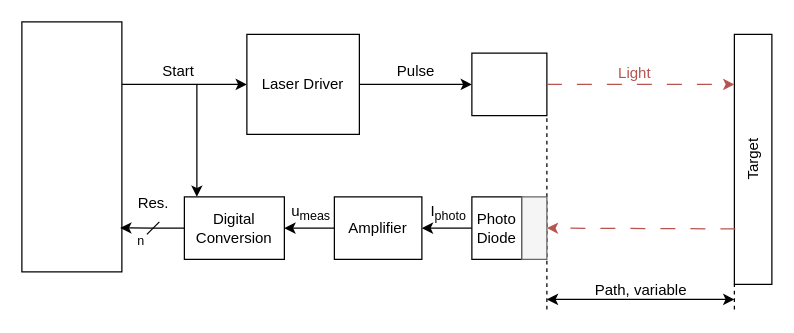
This 794x333 diagram has some shape labels left out. The box of each missing label's shape, as (x1, y1, x2, y2) in pixels:
Laser Diode: (471, 52, 547, 116)
MCU: (21, 21, 122, 272)
Optic: (521, 196, 547, 259)
